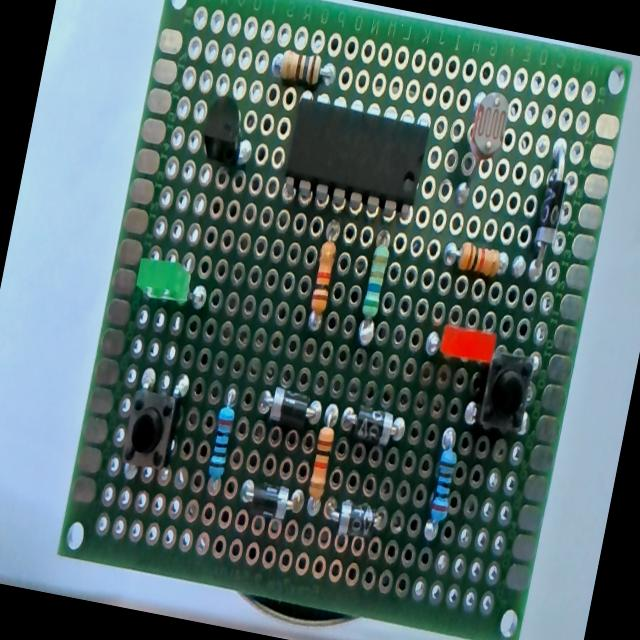IC: (268, 90, 441, 238)
cds: (449, 78, 521, 202)
diode: (516, 133, 583, 284), (336, 384, 420, 458), (249, 367, 327, 445), (230, 468, 308, 534), (318, 491, 391, 548)
led: (424, 310, 503, 384), (133, 244, 208, 318)
resistor: (410, 409, 470, 559), (292, 212, 354, 346), (348, 222, 404, 354), (194, 370, 246, 510), (298, 391, 344, 531), (431, 228, 516, 296), (262, 42, 342, 98)
switch: (110, 372, 188, 487), (467, 338, 542, 448)
transistor: (186, 84, 264, 199)
